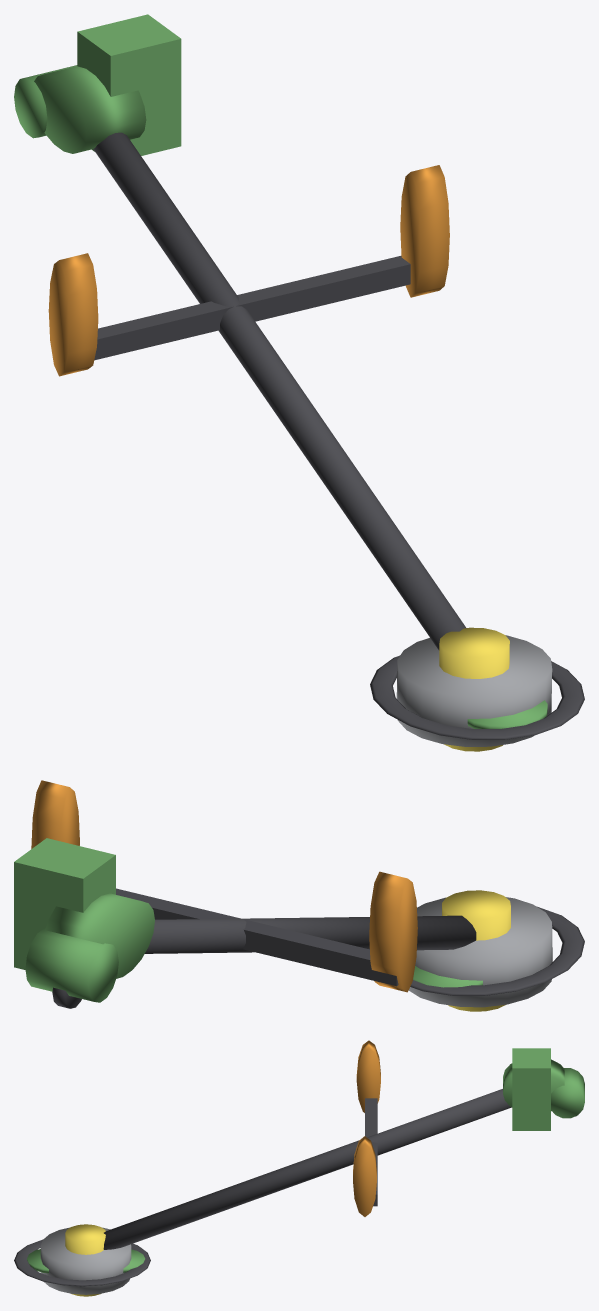
File: desbrozadora_pro.glb
The picture shows the model from 3 angles, top to bottom: view 1: azimuth 30°, elevation 25°; view 2: azimuth 150°, elevation 25°; view 3: azimuth 270°, elevation 25°; orthographic projection. The views are drawn at different scales.
Visible parts, largest first — view 1: Tubo, Cabeza, Barra, Deposito, Motor, Mando, Mando.001, Reborde, Bobina, Cuello, CarreteA; view 2: Cabeza, Deposito, Tubo, Barra, Cuello, Mando.001, Motor, Reborde, Bobina, Mando, CarreteB, Tapa; view 3: Tubo, Cabeza, Deposito, Mando, Reborde, Cuello, Mando.001, Bobina, Motor, Barra.
Boxes of the visible parts, left/top/right/bottom form: Tubo: left=93, top=132, right=466, bottom=650; Cabeza: left=396, top=635, right=552, bottom=746; Barra: left=94, top=256, right=410, bottom=360; Deposito: left=77, top=14, right=181, bottom=155; Motor: left=34, top=66, right=146, bottom=153; Mando: left=400, top=165, right=449, bottom=297; Mando.001: left=48, top=253, right=98, bottom=376; Reborde: left=370, top=655, right=584, bottom=739; Bobina: left=439, top=627, right=509, bottom=751; Cuello: left=14, top=65, right=77, bottom=138; CarreteA: left=467, top=700, right=547, bottom=728; Cabeza: left=408, top=897, right=552, bottom=1007; Deposito: left=14, top=838, right=115, bottom=969; Tubo: left=145, top=915, right=476, bottom=953; Barra: left=116, top=888, right=398, bottom=986; Cuello: left=25, top=928, right=118, bottom=1002; Mando.001: left=369, top=871, right=417, bottom=992; Motor: left=45, top=893, right=154, bottom=978; Reborde: left=410, top=906, right=584, bottom=995; Bobina: left=442, top=890, right=510, bottom=1011; Mando: left=31, top=780, right=79, bottom=848; CarreteB: left=413, top=966, right=482, bottom=987; Tapa: left=52, top=987, right=81, bottom=1008; Tubo: left=103, top=1089, right=511, bottom=1249; Cabeza: left=40, top=1227, right=131, bottom=1294; Deposito: left=512, top=1048, right=550, bottom=1130; Mando: left=353, top=1136, right=376, bottom=1216; Reborde: left=14, top=1239, right=150, bottom=1286; Cuello: left=551, top=1068, right=584, bottom=1118; Mando.001: left=356, top=1040, right=380, bottom=1112; Bobina: left=65, top=1224, right=105, bottom=1296; Motor: left=503, top=1059, right=564, bottom=1111; Barra: left=365, top=1098, right=377, bottom=1206.
Size of the model in its own units: 0.587 by 0.6137 by 1.32.
